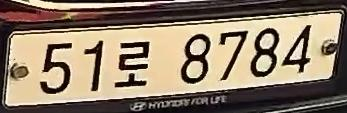1: (82, 38, 108, 95)
4: (280, 21, 316, 75)
5: (38, 40, 77, 96)
7: (215, 27, 250, 83)
8: (177, 31, 213, 89), (250, 27, 280, 78)
로: (113, 36, 155, 93)
